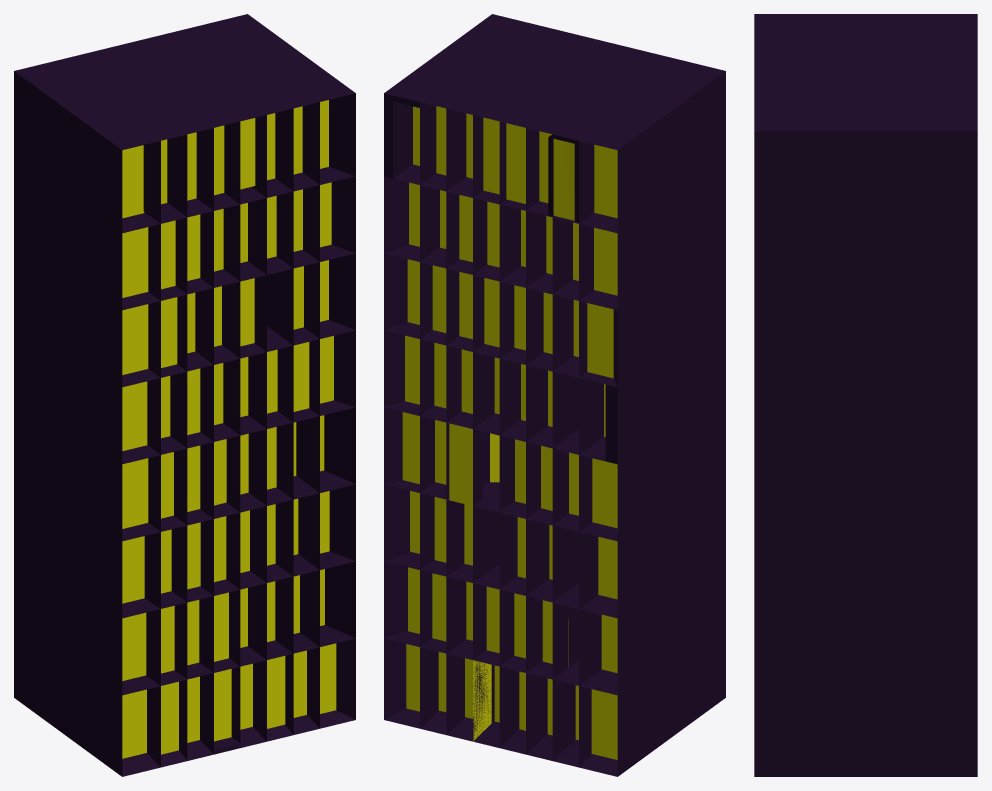
The model's file is building2.fbx.
The picture shows the model from 3 angles, left to right: view 1: azimuth 30°, elevation 25°; view 2: azimuth 150°, elevation 25°; view 3: azimuth 270°, elevation 25°; orthographic projection. The views are drawn at different scales.
Parts seen in each view (by area): view 1: pCube4; view 2: pCube4; view 3: pCube4.
Boxes of the visible parts, x1,y1,x2,y2 form: pCube4: [14, 14, 355, 776]; pCube4: [384, 14, 725, 776]; pCube4: [754, 14, 977, 776].
Bounding box in the file's own units: 1396 × 3578 × 1120.
